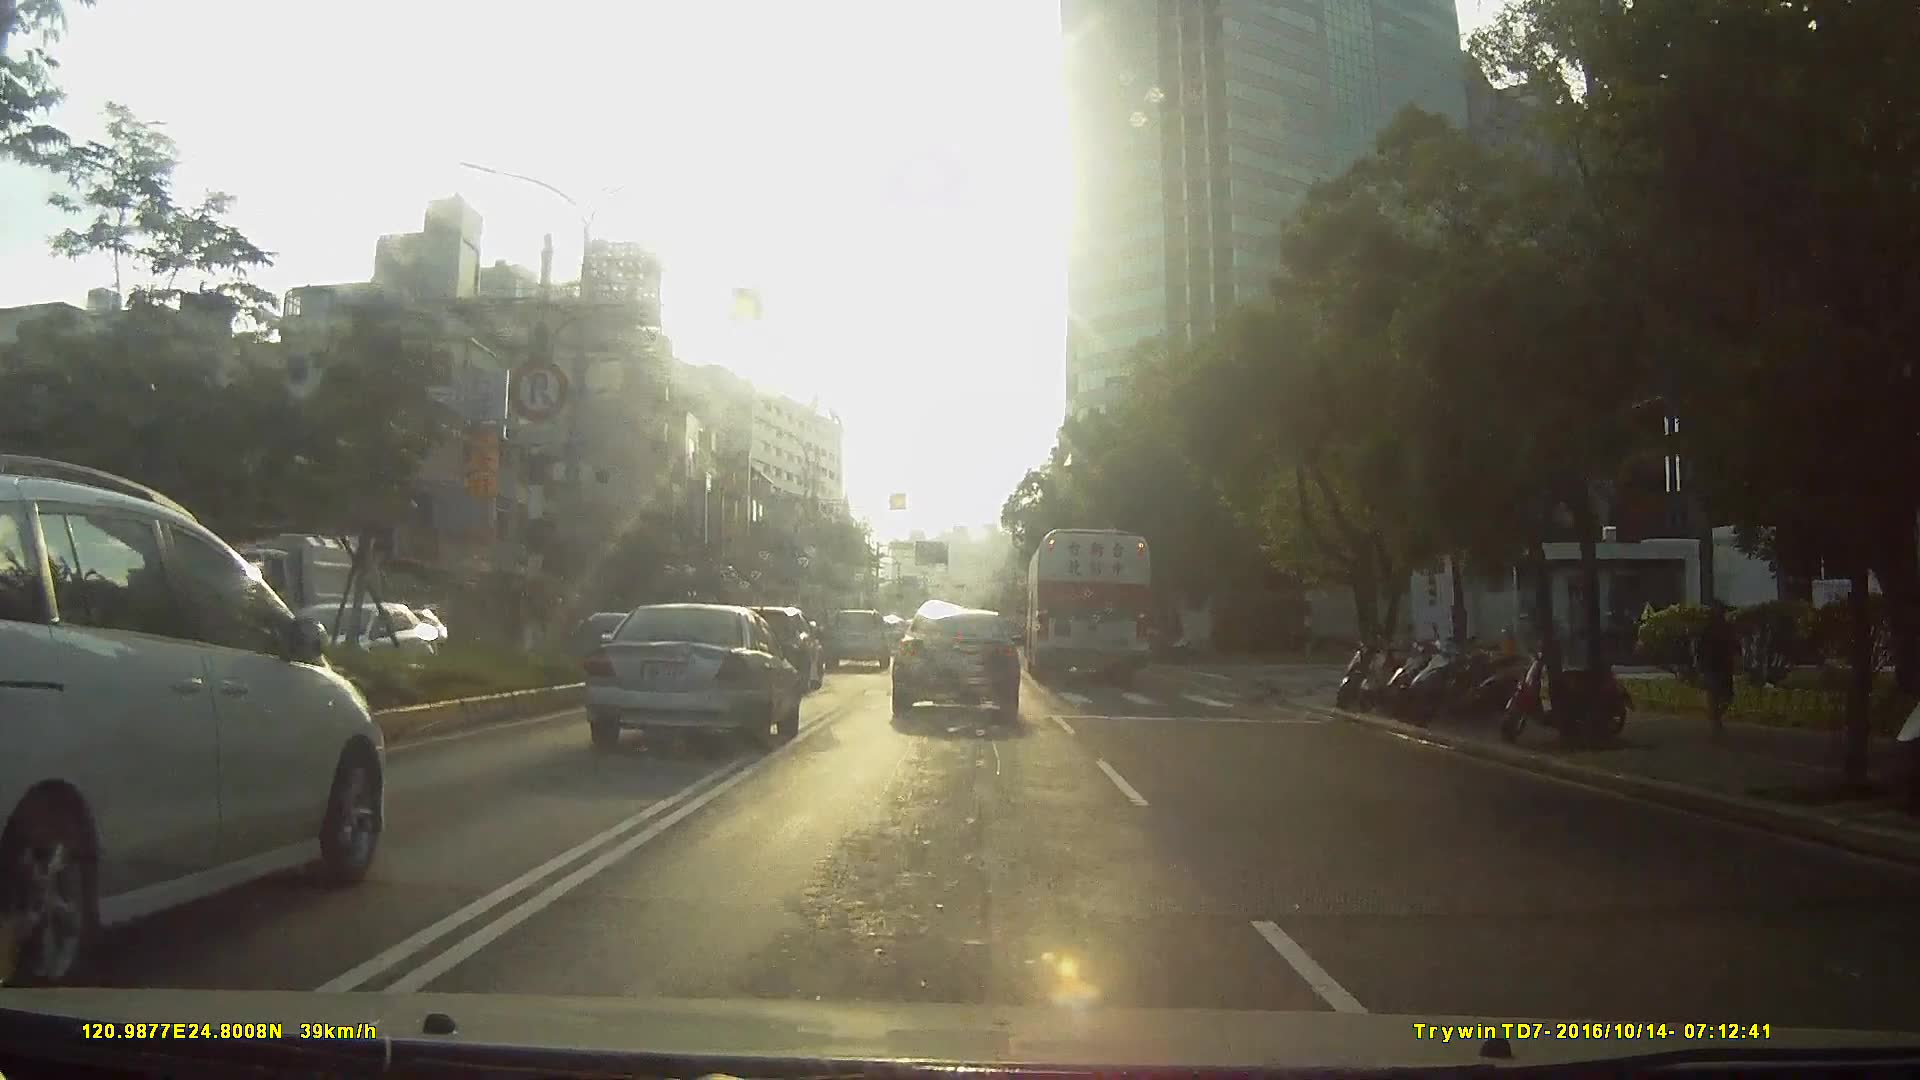pedestrian: (1696, 597, 1745, 736)
vehicle: (1, 454, 399, 974), (250, 556, 684, 868), (573, 597, 797, 750), (172, 525, 350, 648), (1023, 527, 1153, 689), (277, 600, 443, 705), (888, 602, 1020, 718), (821, 606, 889, 672)
